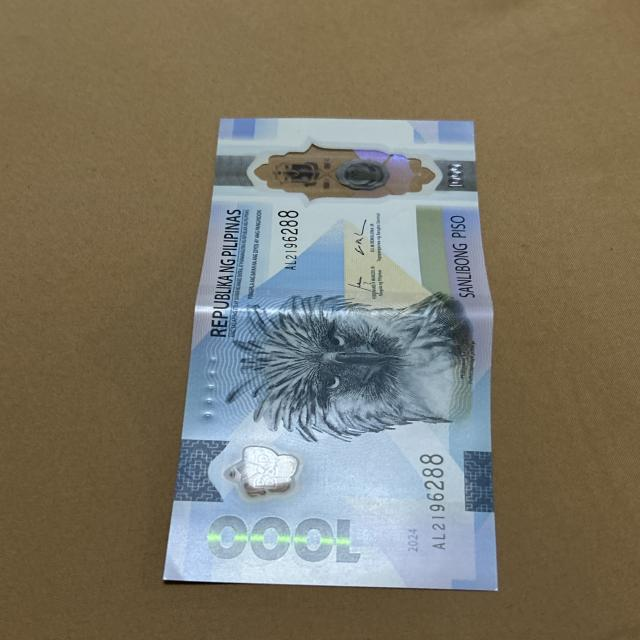clear_window: (240, 139, 450, 199)
eagle: (236, 298, 455, 434)
sampaguita: (224, 443, 308, 496)
